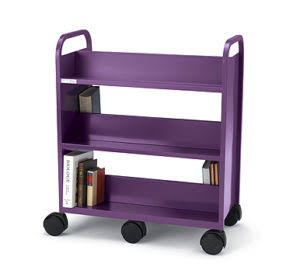Carts: (43, 29, 246, 255)
